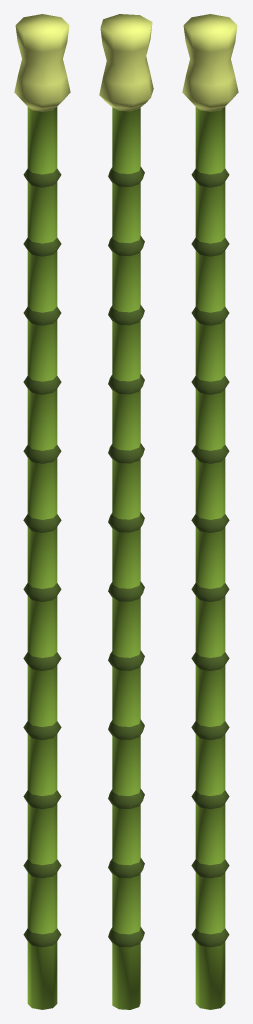
Rendered from Bamboo.fbx.
3 renders of one model, left to right at view 1: azimuth 90°, elevation 25°; view 2: azimuth 150°, elevation 25°; view 3: azimuth 270°, elevation 25°, orthographic.
Parts seen in each view (by area): view 1: Cylinder; view 2: Cylinder; view 3: Cylinder.
Part boxes in pixels (<box>): Cylinder: <box>14,14,70,1009</box>; Cylinder: <box>99,14,153,1009</box>; Cylinder: <box>182,14,238,1009</box>.
Size of the model in its own units: 0.3812 by 7.3 by 0.3812.
